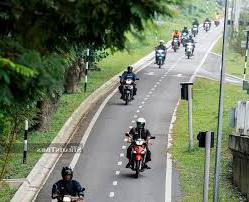motorcycle: (119, 135, 158, 182), (118, 76, 143, 104), (182, 40, 201, 62), (152, 49, 171, 70)
